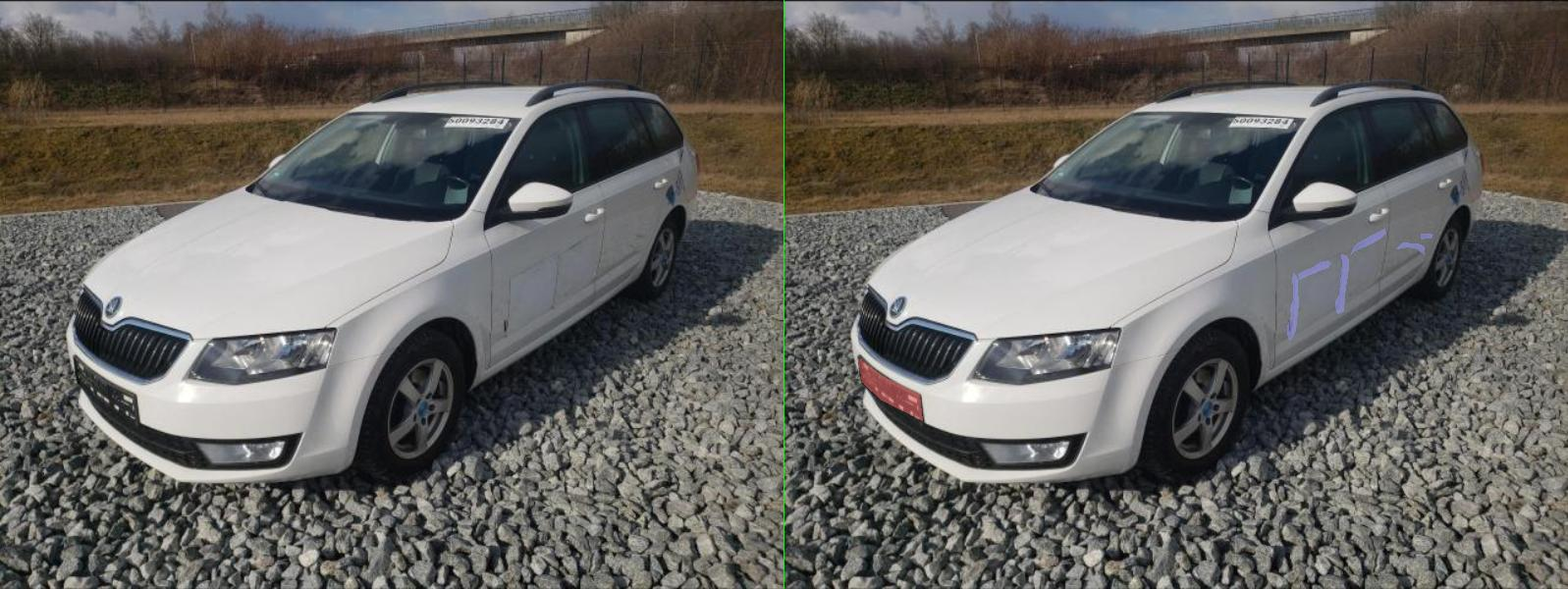Missing part: (147, 358, 275, 420)
Scratch: (1134, 229, 1203, 253), (1102, 254, 1128, 313), (1006, 273, 1028, 340), (1028, 260, 1092, 279), (1224, 242, 1279, 253), (1273, 234, 1297, 239)
